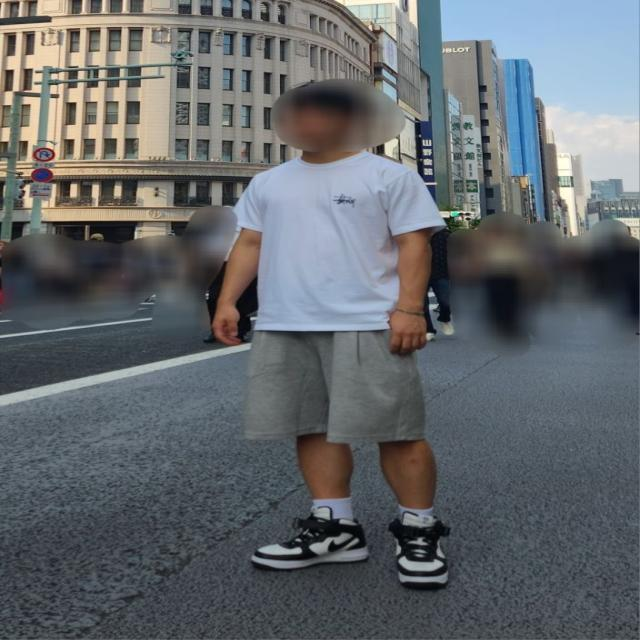shortpants: (246, 328, 424, 444)
shortsleeve: (232, 143, 444, 330)
